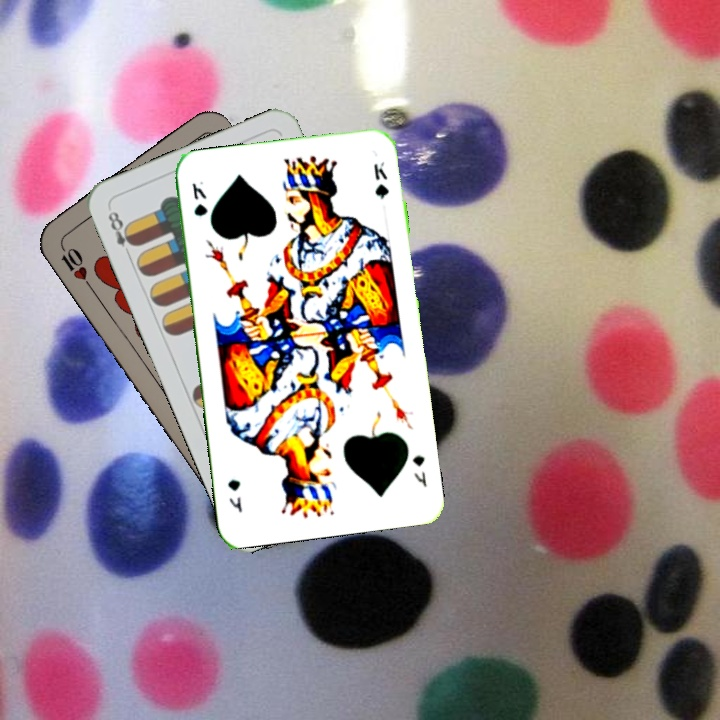E8: (103, 207, 139, 261)
GK: (188, 179, 210, 219), (408, 451, 430, 490)
H10: (55, 238, 94, 291)
